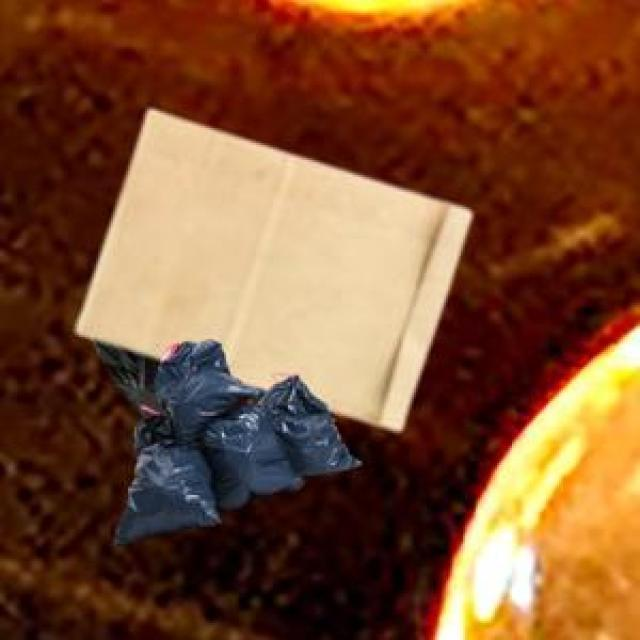miscellaneous trash: (109, 337, 356, 542), (88, 333, 262, 414)
paper: (73, 107, 467, 425)
